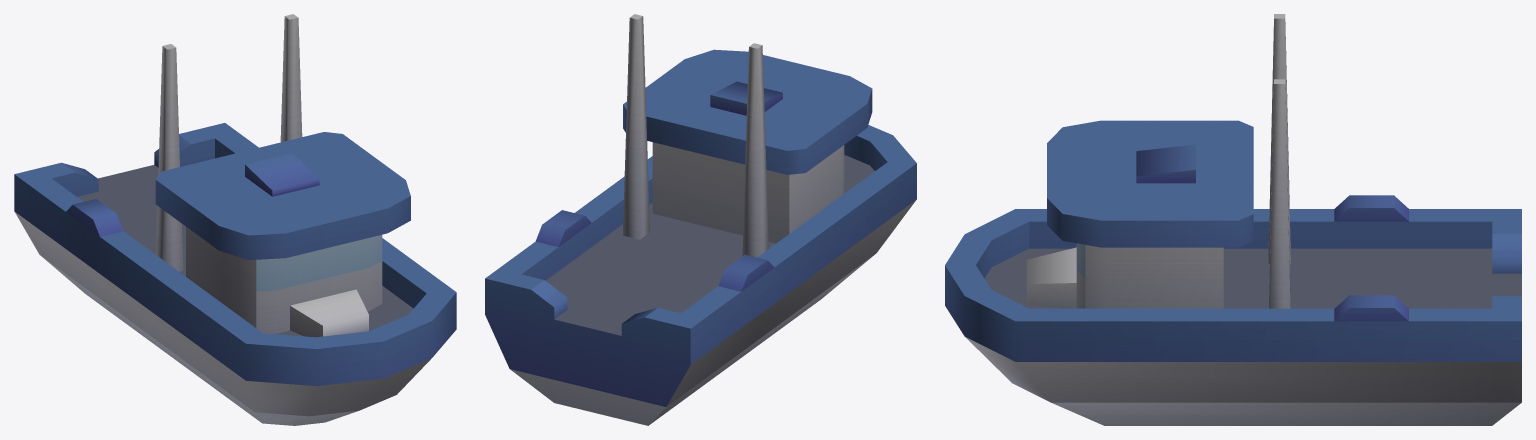
The model's file is boat_fishing_small.glb.
3 views of the same model, side by side, from view 1: azimuth 30°, elevation 25°; view 2: azimuth 150°, elevation 25°; view 3: azimuth 270°, elevation 25° (orthographic). The views are drawn at different scales.
Visible parts, largest first — view 1: boat-fishing-small; view 2: boat-fishing-small; view 3: boat-fishing-small.
Part boxes in pixels (<box>): boat-fishing-small: <box>14,14,456,425</box>; boat-fishing-small: <box>485,14,916,425</box>; boat-fishing-small: <box>945,14,1521,425</box>.
Size of the model in its own units: 1.78 by 2.6 by 3.87.
1 material, 1 textured.
